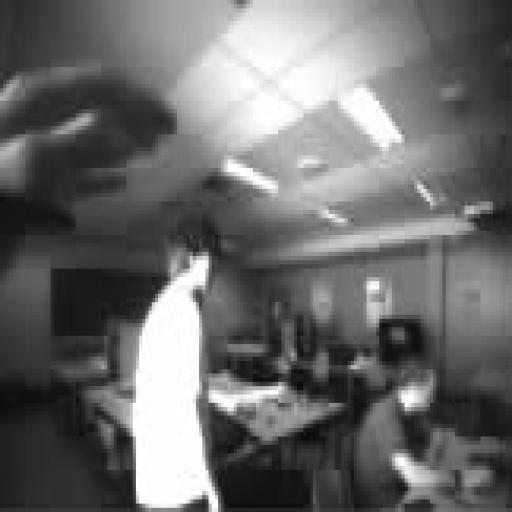human: (0, 63, 176, 268), (133, 215, 221, 511), (351, 361, 455, 511)
